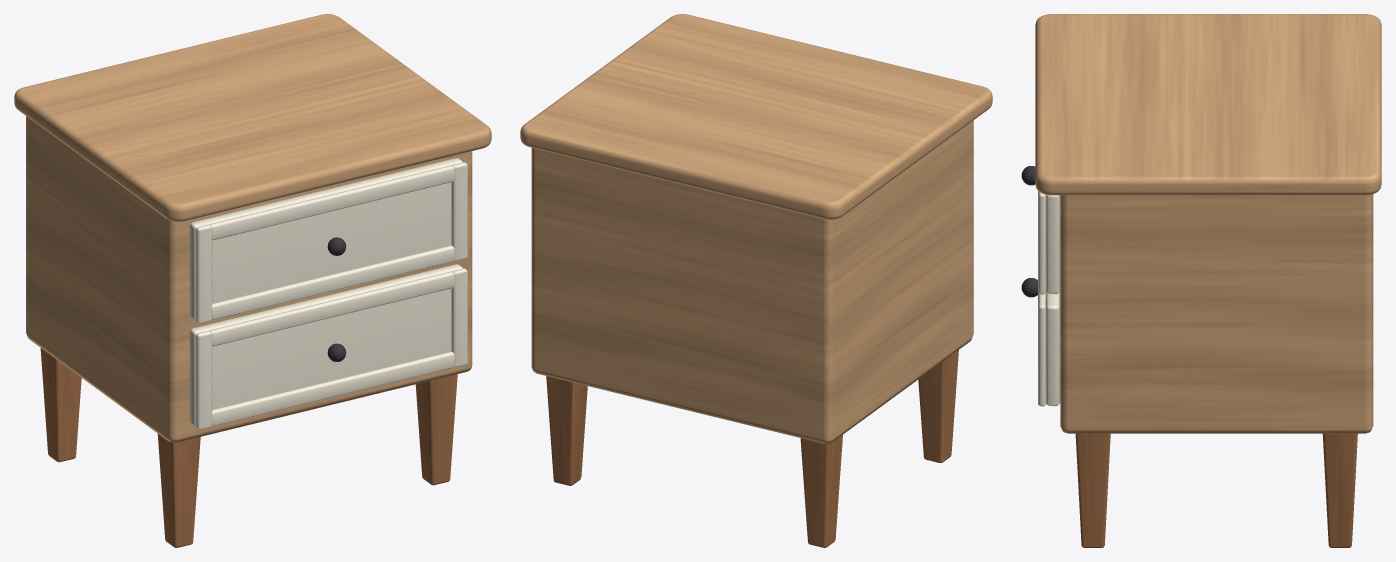
Rendered from prop_nightstand.glb.
3 views of the same model, side by side, from view 1: azimuth 30°, elevation 25°; view 2: azimuth 150°, elevation 25°; view 3: azimuth 270°, elevation 25° (orthographic). The views are drawn at different scales.
Visible parts, largest first — view 1: prop_nightstand; view 2: prop_nightstand; view 3: prop_nightstand.
Part boxes in pixels (bbox=[...]): prop_nightstand: bbox=[14, 14, 491, 547]; prop_nightstand: bbox=[520, 14, 992, 547]; prop_nightstand: bbox=[1021, 14, 1381, 547].
Bounding box in the file's own units: 0.6 × 0.6406 × 0.5462.
Materials: 4 (2 with a texture image).
